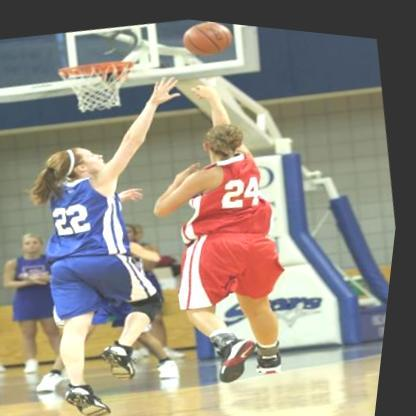basketball: (179, 15, 235, 57)
